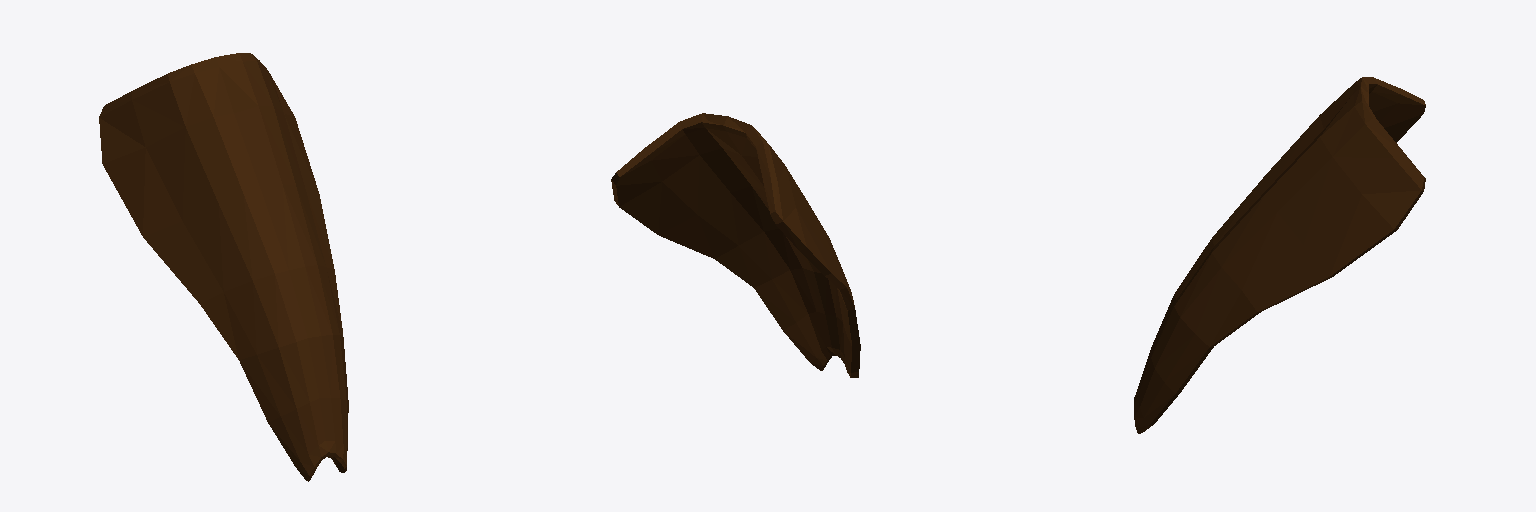
The model's file is Connective.Cartilage.Septi_lateralis.003.obj.
3 views of the same model, side by side, from view 1: azimuth 30°, elevation 25°; view 2: azimuth 150°, elevation 25°; view 3: azimuth 270°, elevation 25° (orthographic).
Parts seen in each view (by area): view 1: Connective:Cartilage:Septi_lateralis.003_Cartilage.002; view 2: Connective:Cartilage:Septi_lateralis.003_Cartilage.002; view 3: Connective:Cartilage:Septi_lateralis.003_Cartilage.002.
Boxes of the visible parts, <box> form: Connective:Cartilage:Septi_lateralis.003_Cartilage.002: <box>99,53,348,481</box>; Connective:Cartilage:Septi_lateralis.003_Cartilage.002: <box>611,113,860,377</box>; Connective:Cartilage:Septi_lateralis.003_Cartilage.002: <box>1134,77,1425,433</box>.
Size of the model in its own units: 0.0835 by 0.1403 by 0.1095.